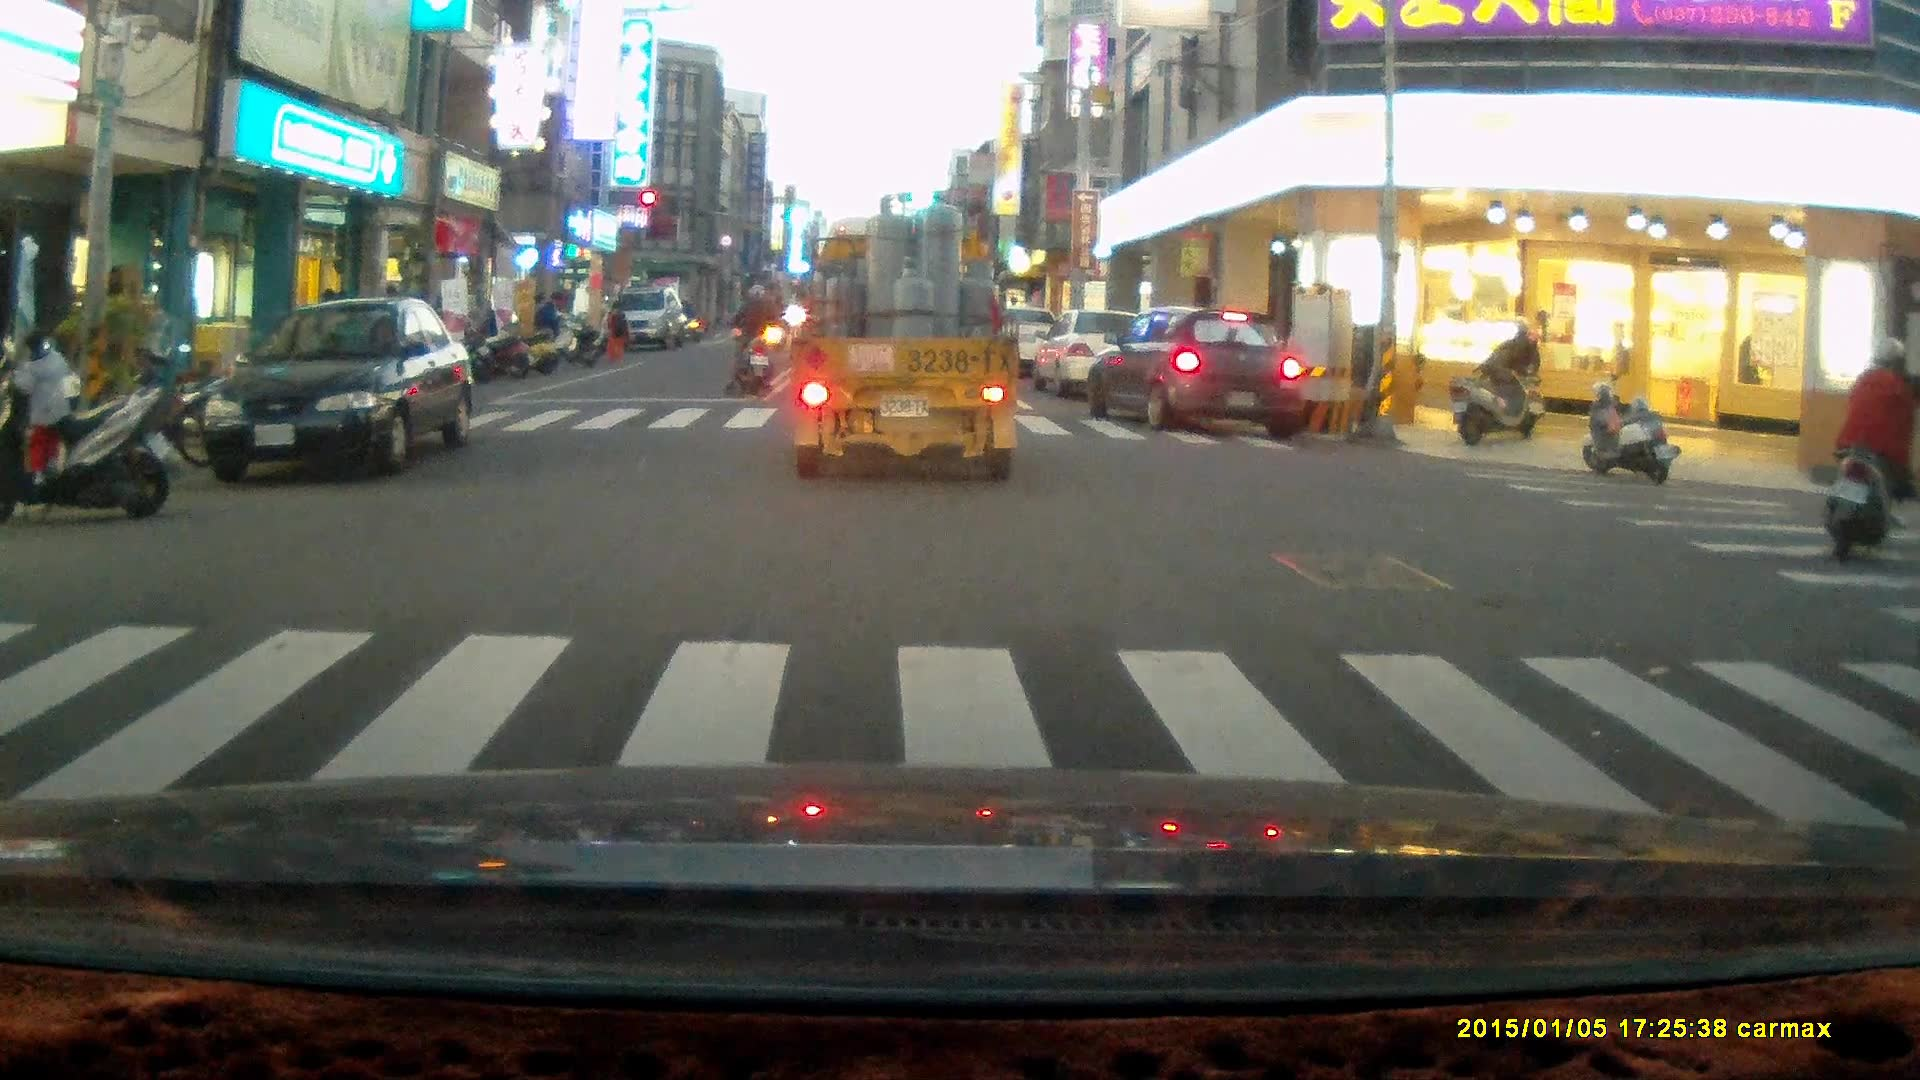pedestrian: (14, 326, 70, 483), (535, 286, 565, 357), (605, 296, 626, 359)
rider: (1822, 329, 1920, 564), (1484, 311, 1545, 438), (719, 277, 779, 400)
vehicle: (787, 188, 1017, 479), (200, 293, 476, 481), (1080, 308, 1309, 433), (1034, 307, 1171, 400), (606, 281, 686, 344)
